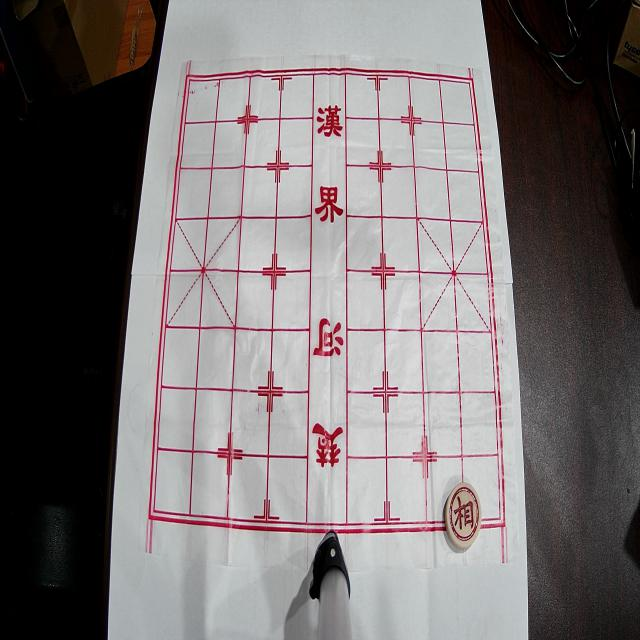red-elephant: (445, 482, 482, 549)
